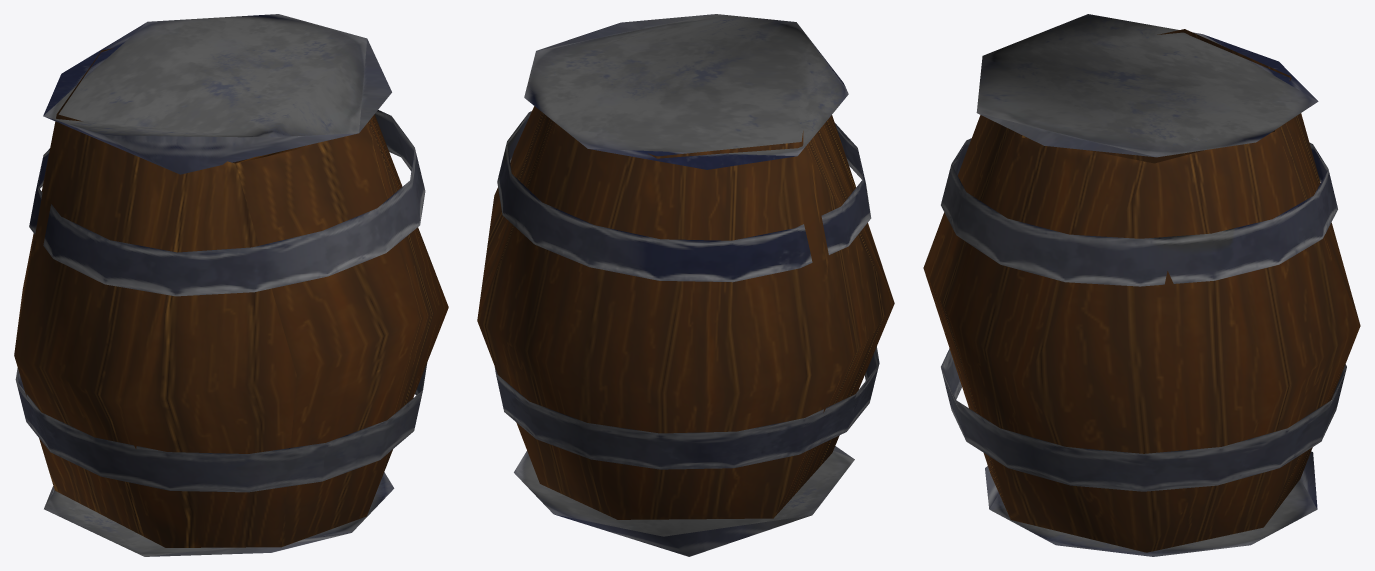
The model's file is 4_V_Barril_Claro1_LOD_2.fbx.
3 views of the same model, side by side, from view 1: azimuth 30°, elevation 25°; view 2: azimuth 150°, elevation 25°; view 3: azimuth 270°, elevation 25° (orthographic). The views are drawn at different scales.
Parts seen in each view (by area): view 1: 4_V_Barril_Claro1_LOD_2; view 2: 4_V_Barril_Claro1_LOD_2; view 3: 4_V_Barril_Claro1_LOD_2.
Boxes of the visible parts, box(x1,y1,x2,y2) form: 4_V_Barril_Claro1_LOD_2: box(14, 14, 448, 556); 4_V_Barril_Claro1_LOD_2: box(477, 14, 894, 556); 4_V_Barril_Claro1_LOD_2: box(923, 14, 1360, 556).
Bounding box in the file's own units: 97.93 × 110 × 100.
